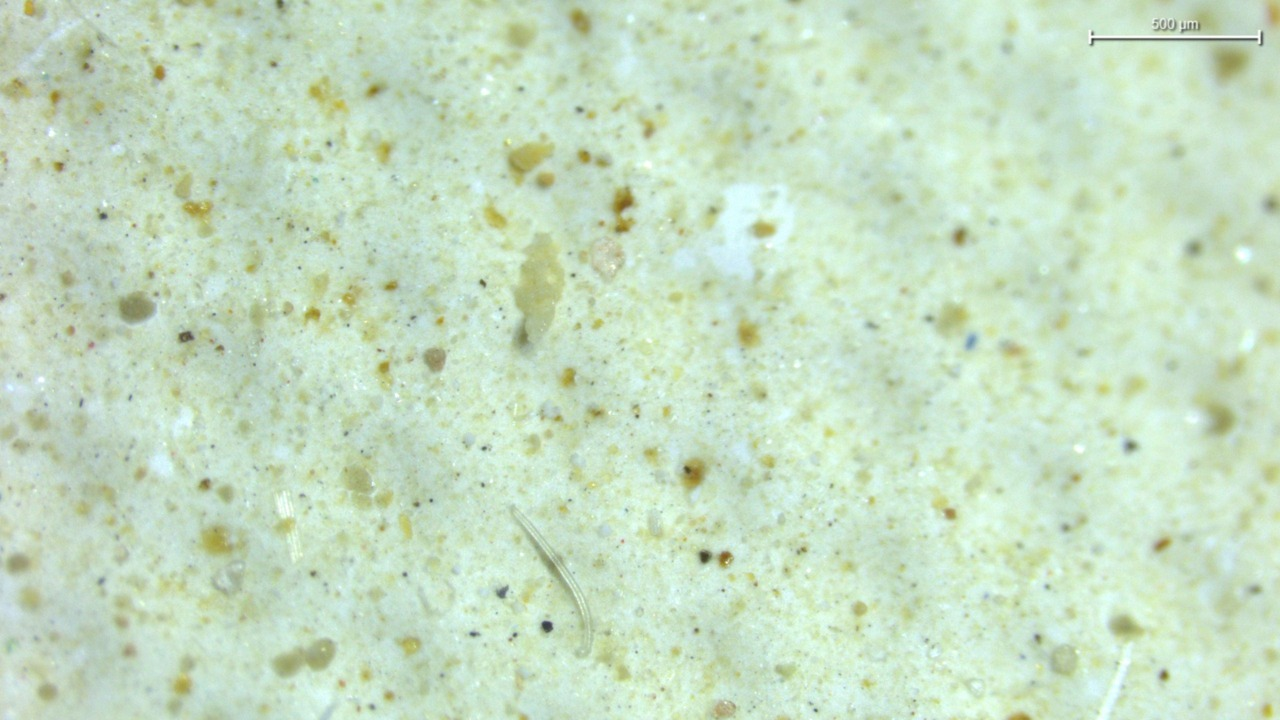microplastic_fragment: (514, 233, 564, 345)
